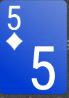Diamond: (6, 32, 22, 51)
